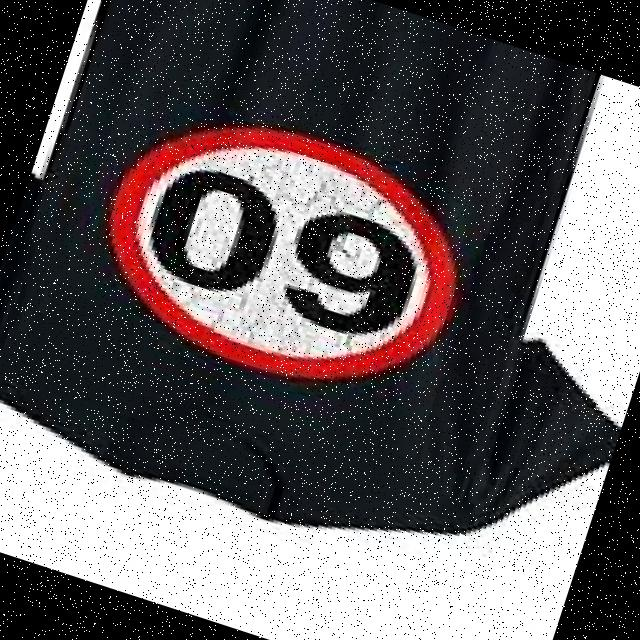speed_limit_60: (75, 88, 487, 420)
